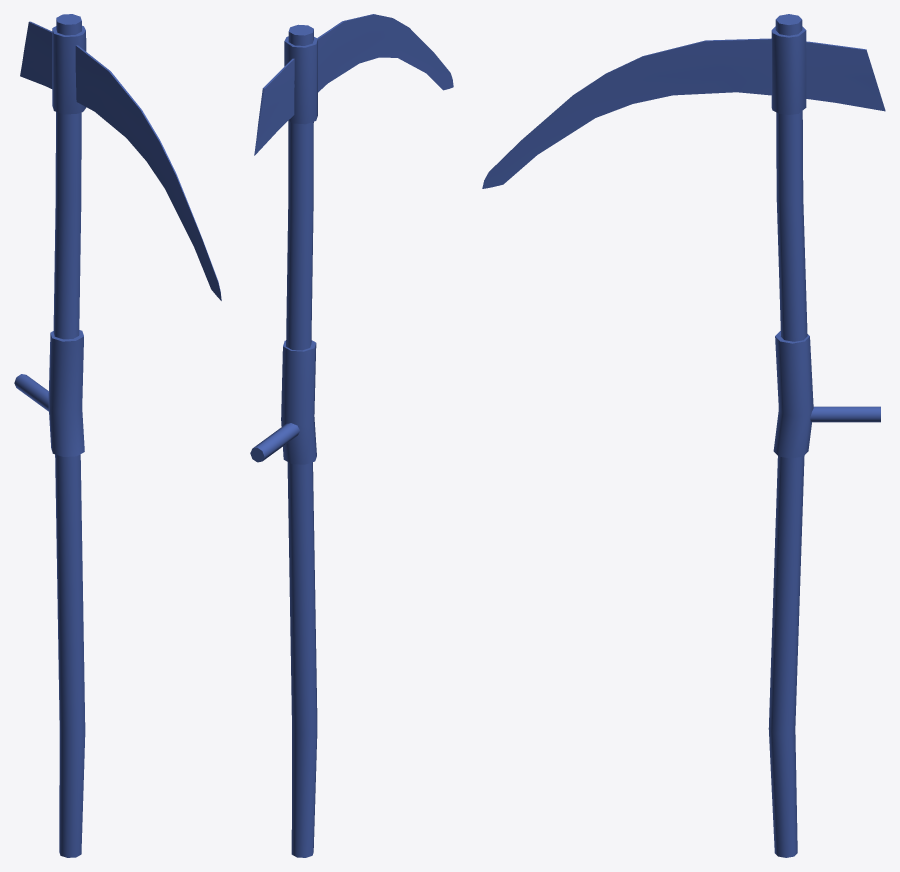
File: syce.fbx
3 renders of one model, left to right at view 1: azimuth 30°, elevation 25°; view 2: azimuth 150°, elevation 25°; view 3: azimuth 270°, elevation 25°, orthographic.
Parts seen in each view (by area): view 1: pCylinder84; view 2: pCylinder84; view 3: pCylinder84.
Boxes of the visible parts, x1,y1,x2,y2 form: pCylinder84: [14, 14, 221, 857]; pCylinder84: [250, 14, 453, 857]; pCylinder84: [482, 14, 885, 857].
Bounding box in the file's own units: 0.062 × 1.63 × 0.716.
